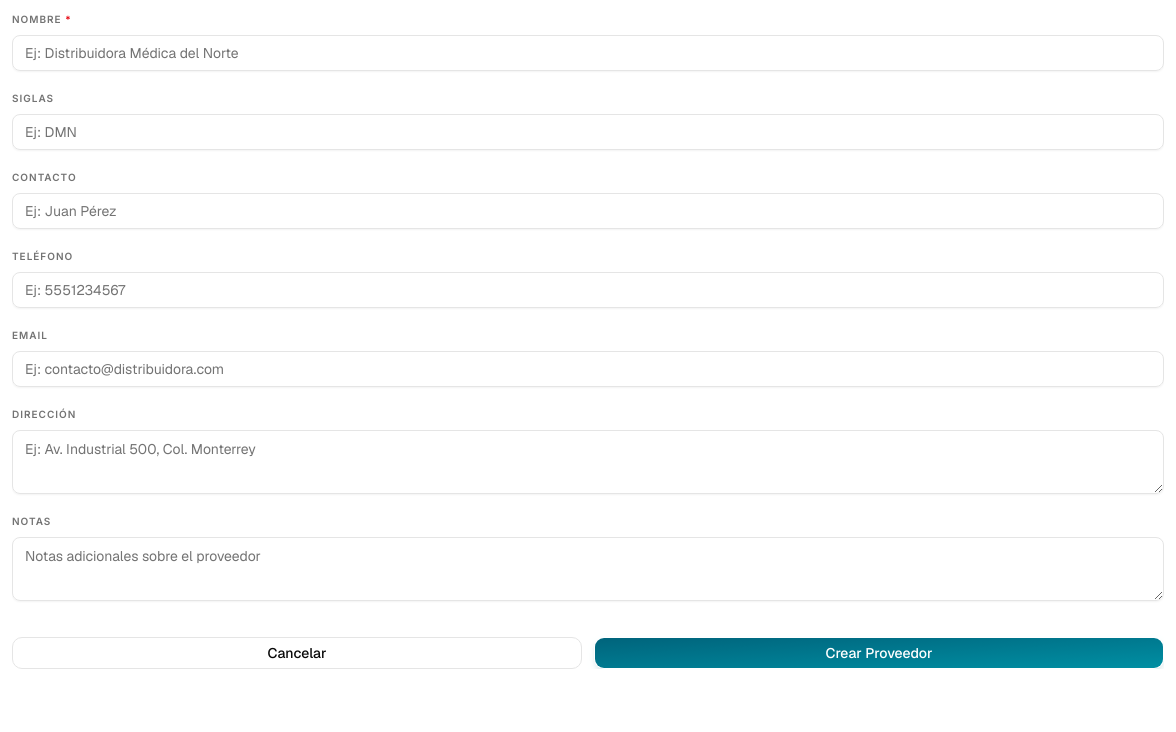
Test: SupplierForm › shows server error when action returns an error
Type "Nuevo Proveedor" into the field labelled "Nombre *" at [588, 53], box x1=12 y1=35 x2=1164 y2=71
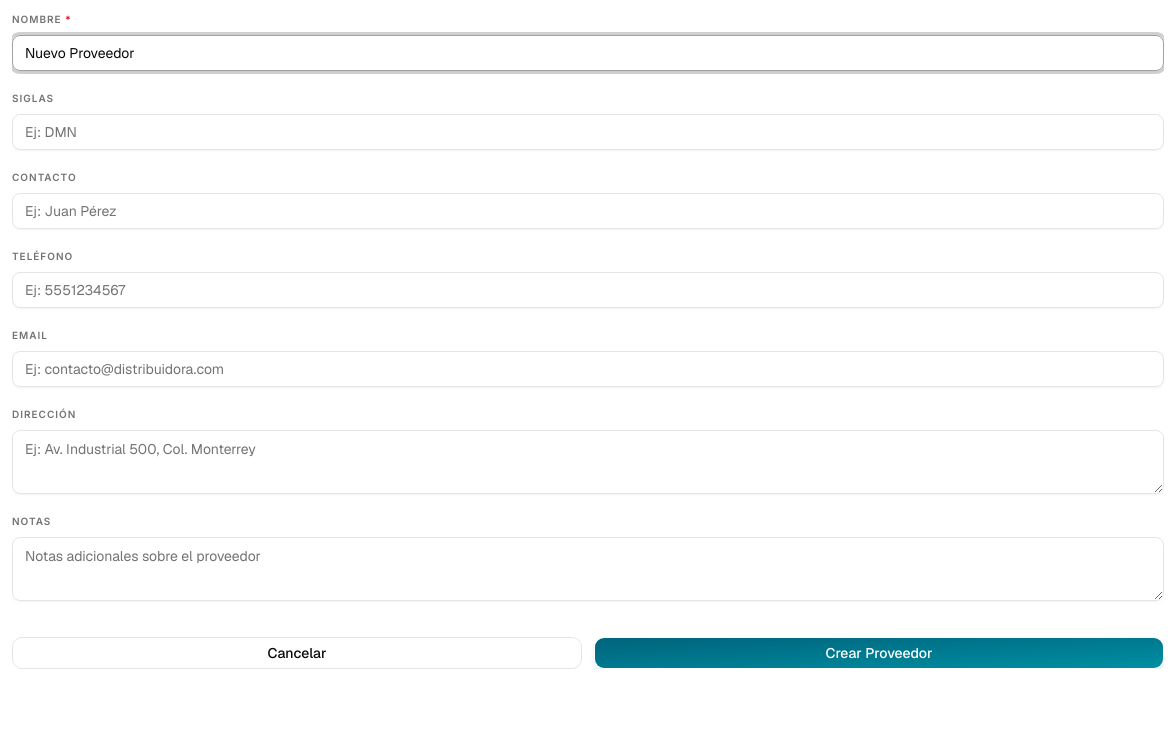
Click the button "Crear Proveedor" at [879, 653], box x1=594 y1=637 x2=1164 y2=669
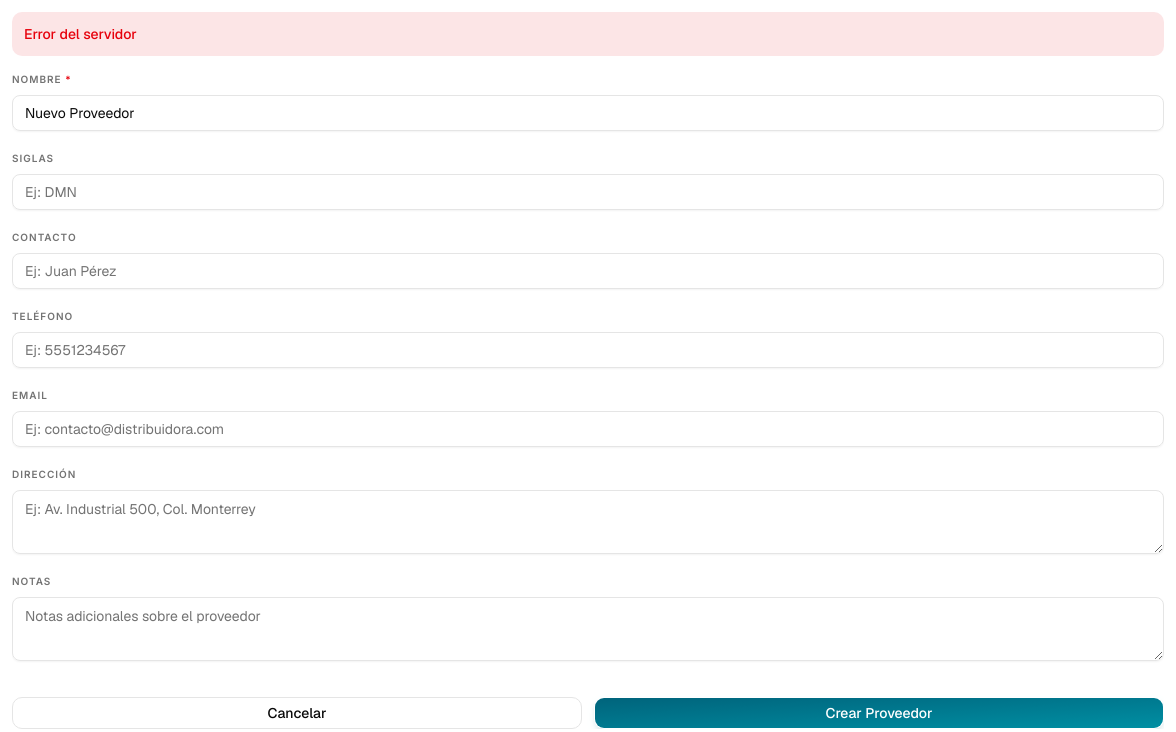
Check: the text "Error del servidor" is shown, box x1=24 y1=25 x2=137 y2=43
